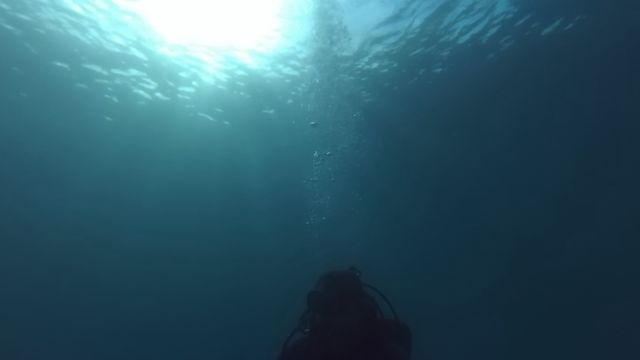Diver: (269, 260, 418, 355)
